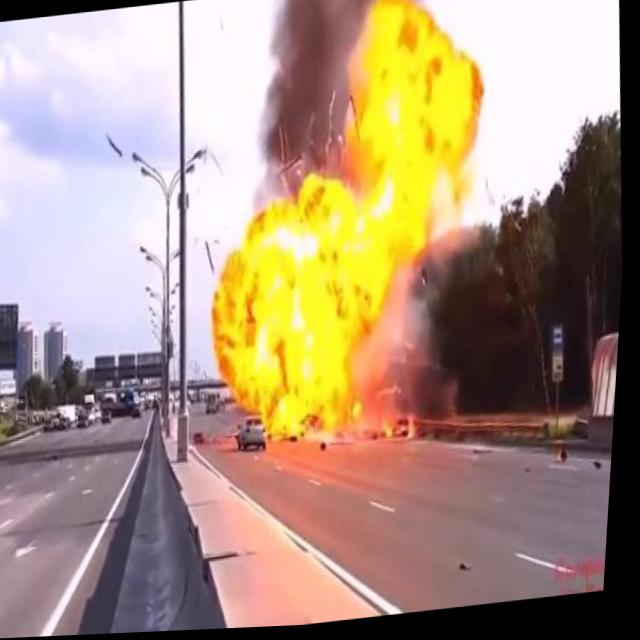fire: (182, 0, 517, 466)
